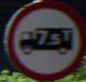Heavy Vehicles: (8, 4, 81, 67)
